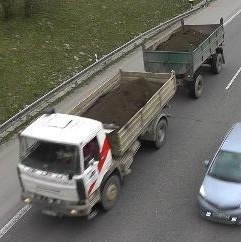car: (194, 122, 241, 227)
